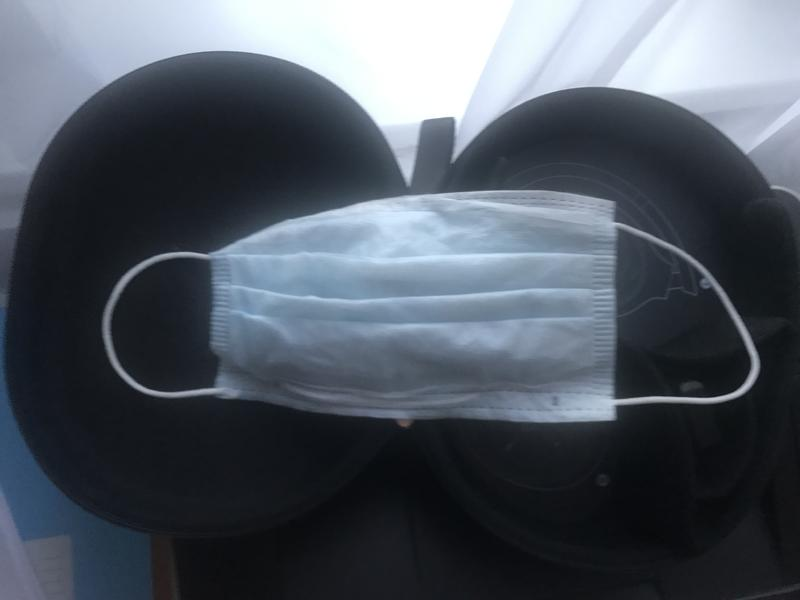medical_mask: (101, 189, 760, 420)
